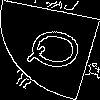Q: (24, 25, 94, 76)
